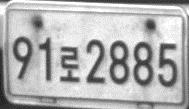1: (38, 36, 52, 82)
2: (85, 39, 106, 84)
5: (157, 42, 178, 88)
8: (109, 39, 130, 85), (133, 41, 154, 87)
9: (12, 35, 34, 80)
로: (58, 45, 81, 84)
